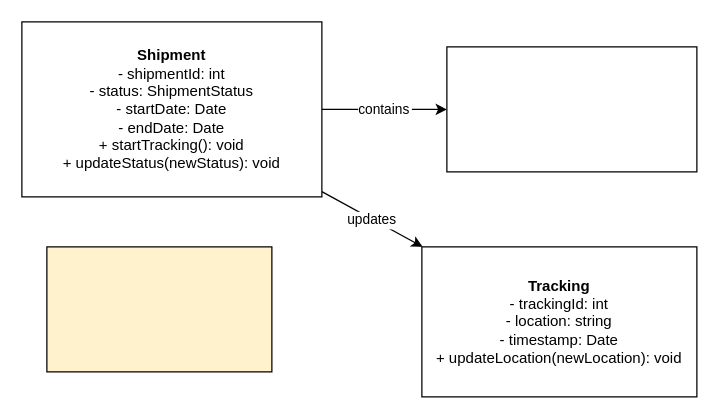
The diagram is 719 pixels wide and 419 high, and some of its shapes have lost their labels. The shapes that lost their labels are listed below. From the top down, each one's centre as x and y in pixels, then its label:
At pixel 571 109: "Document - documentId: int - type: string - createdAt: Date + generate(): void".
At pixel 159 309: "enum ShipmentStatus PREPARED IN_TRANSIT DELIVERED DELAYED".
